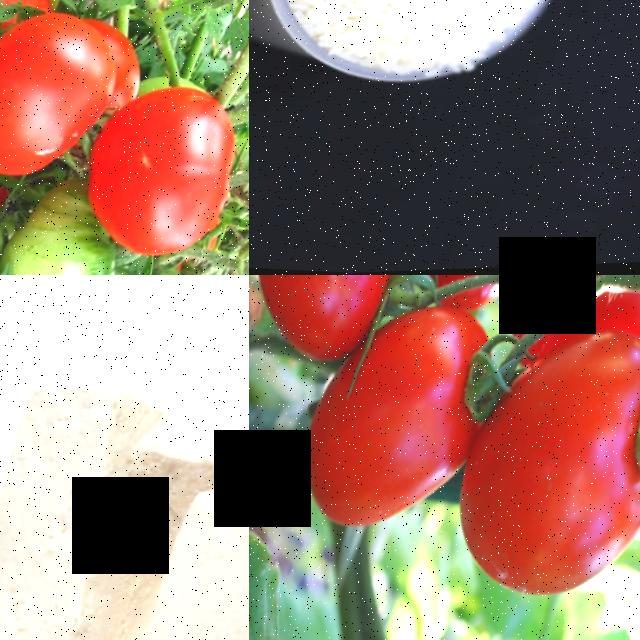tofu: (0, 371, 166, 640), (102, 402, 249, 640)
tomato: (445, 321, 640, 614), (296, 304, 514, 544), (73, 80, 249, 268), (0, 3, 130, 189), (249, 275, 423, 372)
white rice: (266, 0, 587, 91)
